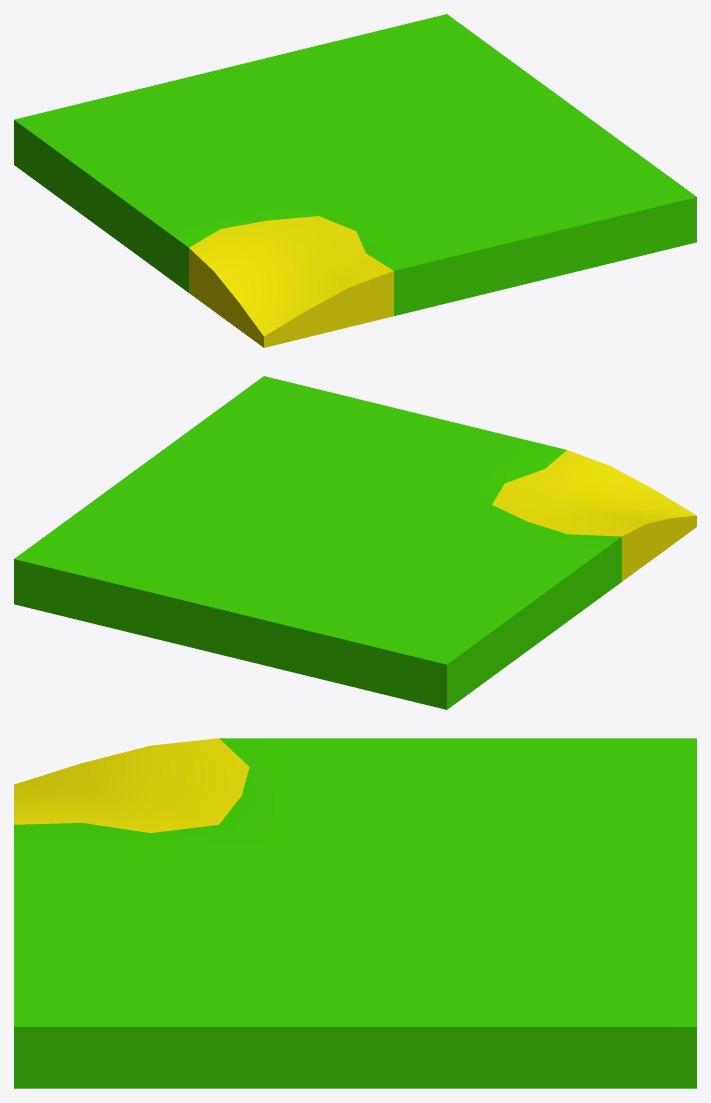
File: island_corner_02.fbx
3 renders of one model, top to bottom at view 1: azimuth 30°, elevation 25°; view 2: azimuth 150°, elevation 25°; view 3: azimuth 270°, elevation 25°, orthographic. The views are drawn at different scales.
Visible parts, largest first — view 1: Box001; view 2: Box001; view 3: Box001.
Part boxes in pixels (bbox=[...]): Box001: bbox=[14, 14, 696, 347]; Box001: bbox=[14, 376, 696, 709]; Box001: bbox=[14, 738, 696, 1088].
Size of the model in its own units: 400 by 40 by 400.
